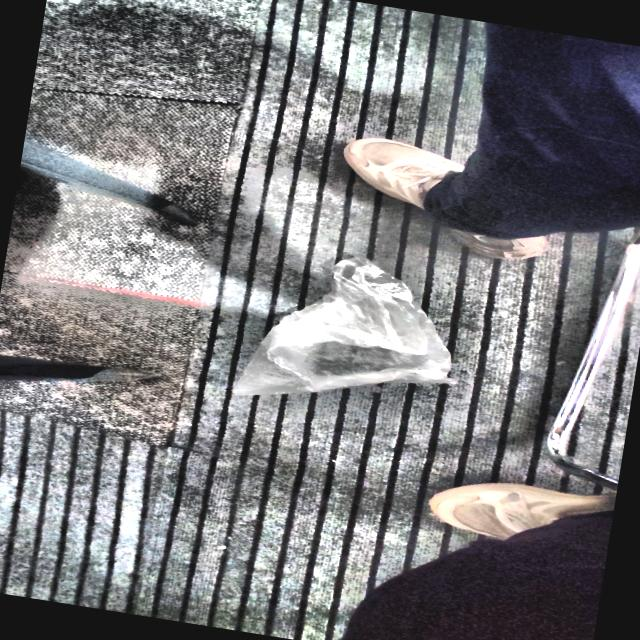plastic bag: (235, 257, 456, 396)
